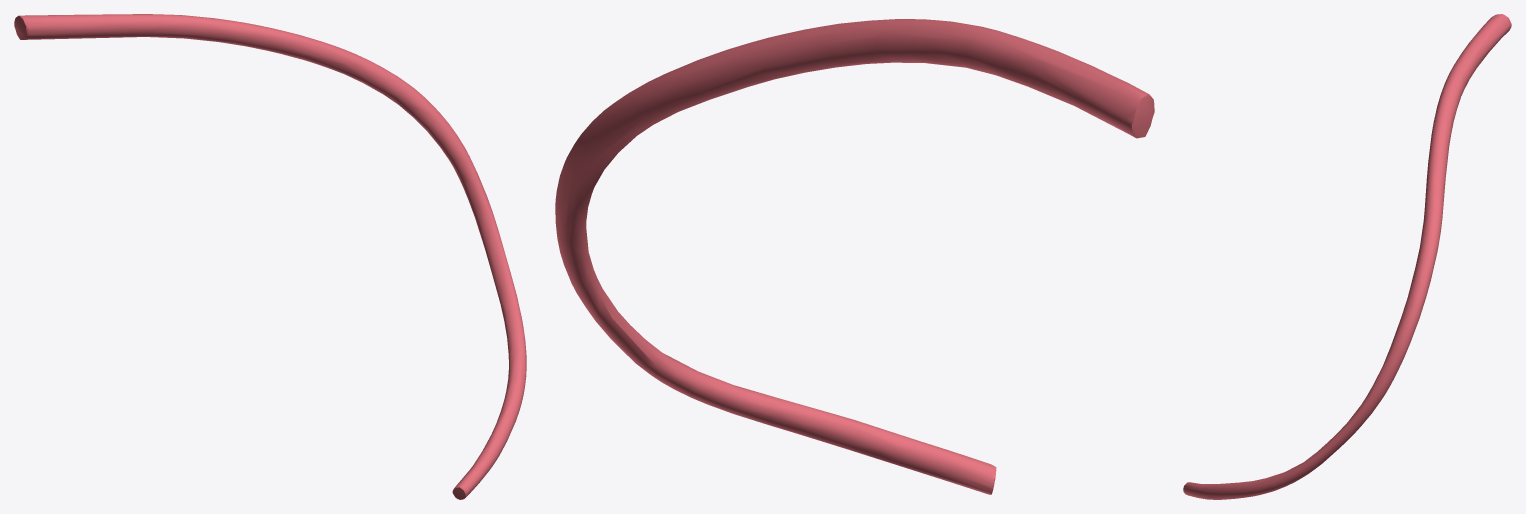
The model's file is fma44887_fj2182.glb.
3 renders of one model, left to right at view 1: azimuth 30°, elevation 25°; view 2: azimuth 150°, elevation 25°; view 3: azimuth 270°, elevation 25°, orthographic. The views are drawn at different scales.
Parts seen in each view (by area): view 1: FMA44887_FJ2182; view 2: FMA44887_FJ2182; view 3: FMA44887_FJ2182.
Boxes of the visible parts, left/top/right/bottom form: FMA44887_FJ2182: left=14, top=14, right=526, bottom=499; FMA44887_FJ2182: left=555, top=19, right=1154, bottom=494; FMA44887_FJ2182: left=1183, top=14, right=1511, bottom=499.
Bounding box in the file's own units: 0.046 × 0.0459 × 0.0371.
